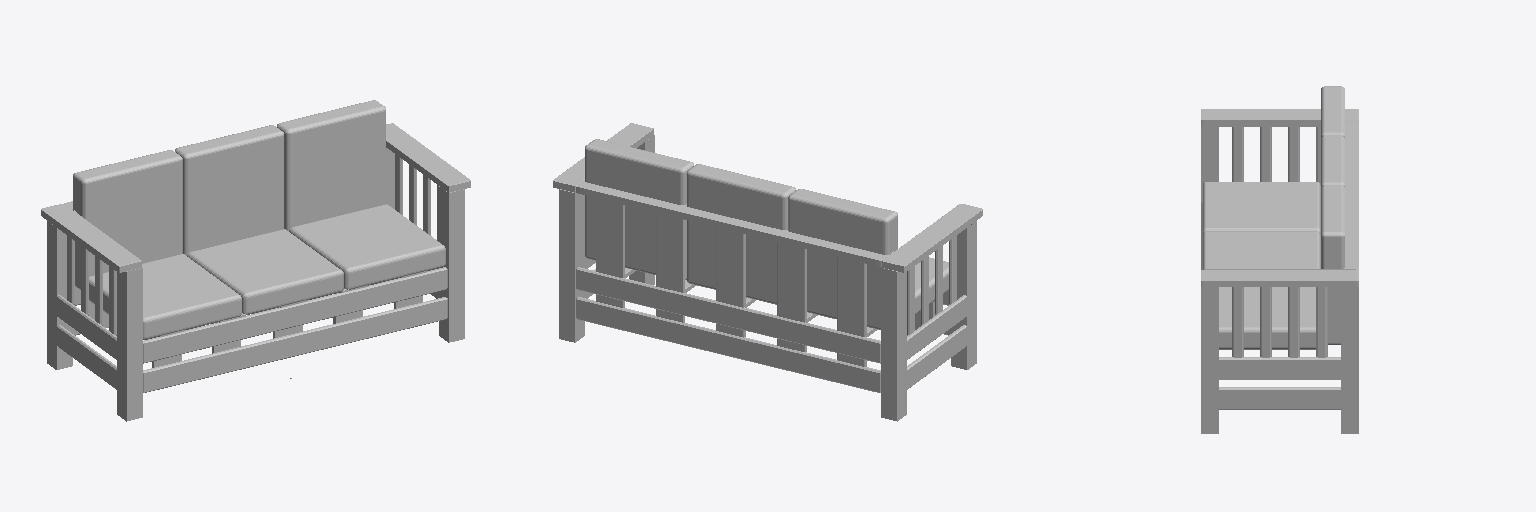
3 views of the same model, side by side, from view 1: azimuth 30°, elevation 25°; view 2: azimuth 150°, elevation 25°; view 3: azimuth 270°, elevation 25° (orthographic).
Visible parts, largest first — view 1: Wooden_Sofa; view 2: Wooden_Sofa; view 3: Wooden_Sofa.
Part boxes in pixels (bbox=[...]): Wooden_Sofa: bbox=[41, 100, 470, 421]; Wooden_Sofa: bbox=[553, 123, 982, 421]; Wooden_Sofa: bbox=[1201, 86, 1358, 433].
Bounding box in the file's own units: 876 × 460 × 341.